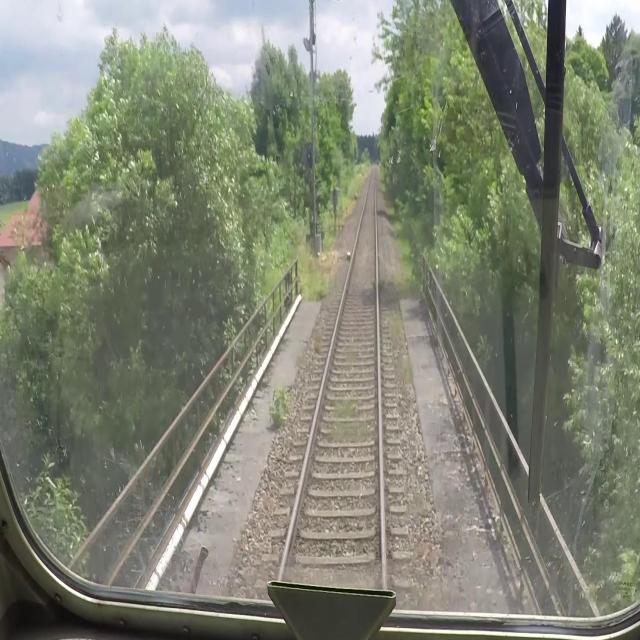rail-track: (281, 165, 382, 587)
